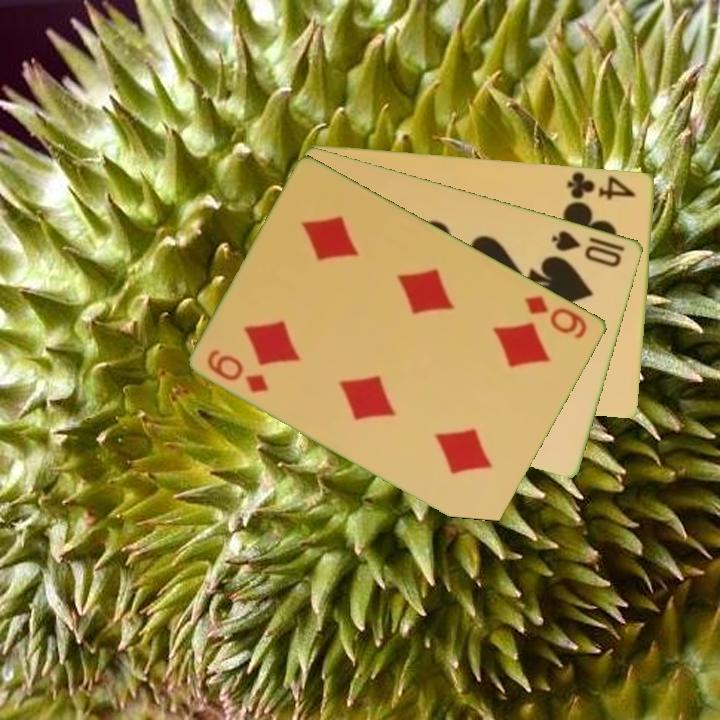10s: (548, 226, 629, 270)
4c: (564, 168, 639, 205)
6d: (521, 291, 591, 342), (204, 346, 272, 396)
